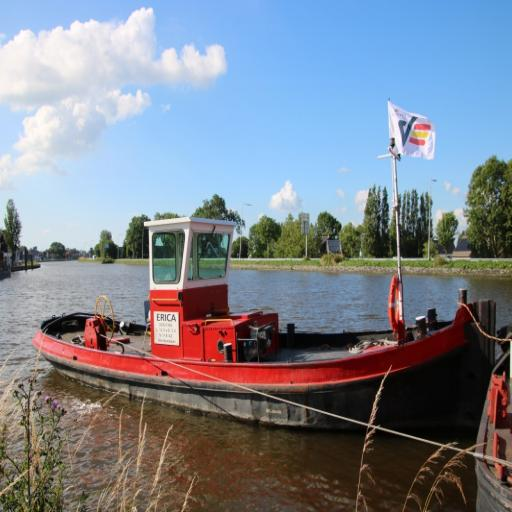tugboat: (30, 194, 501, 473)
